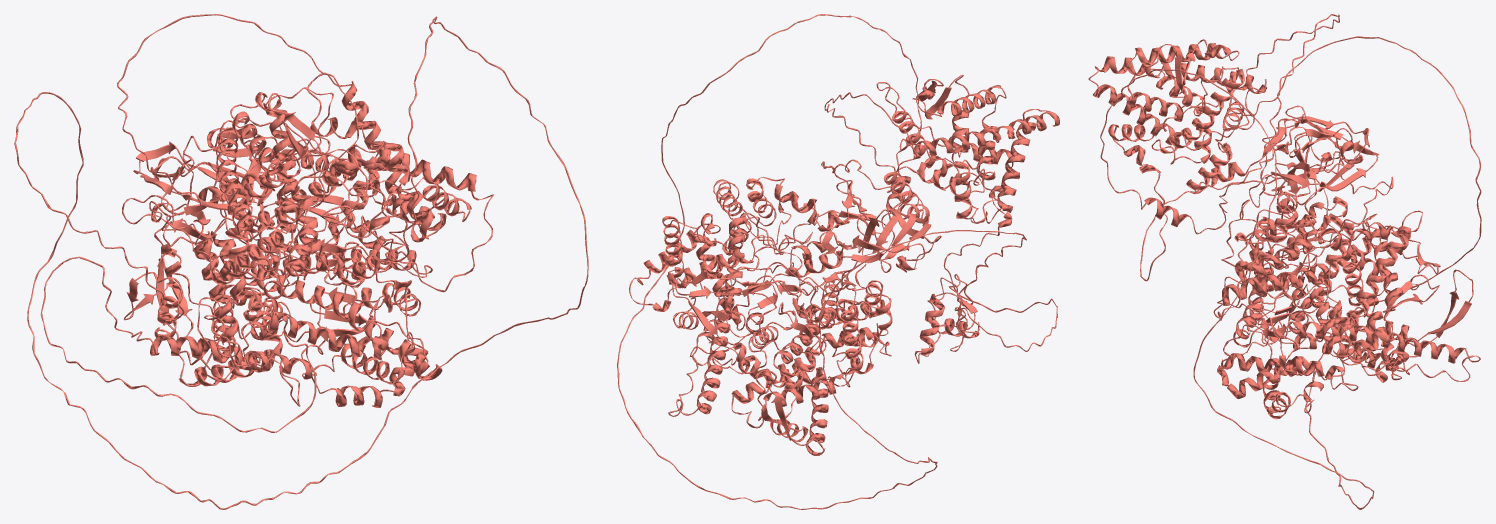
3 renders of one model, left to right at view 1: azimuth 30°, elevation 25°; view 2: azimuth 150°, elevation 25°; view 3: azimuth 270°, elevation 25°, orthographic. The views are drawn at different scales.
Size of the model in its own units: 136 by 136 by 112.
